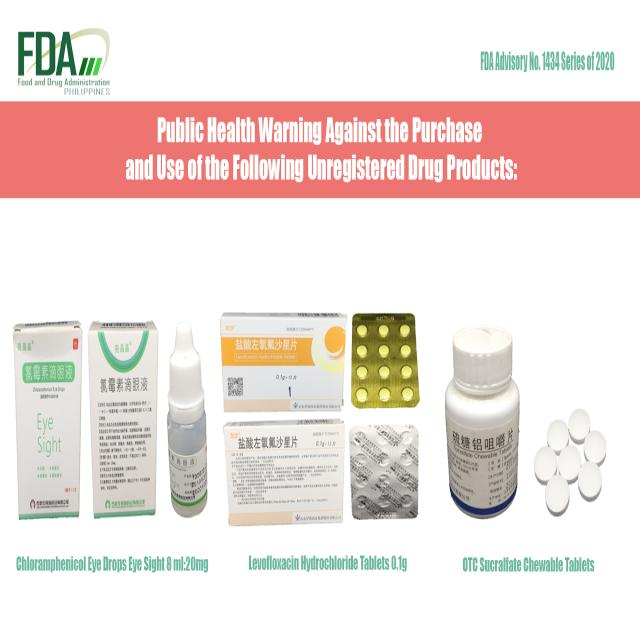counterfeit: (442, 322, 522, 526), (8, 315, 82, 527), (218, 304, 352, 414), (86, 318, 156, 520), (222, 424, 344, 532), (166, 318, 212, 526), (534, 411, 614, 526), (354, 304, 426, 412), (349, 427, 423, 523)
